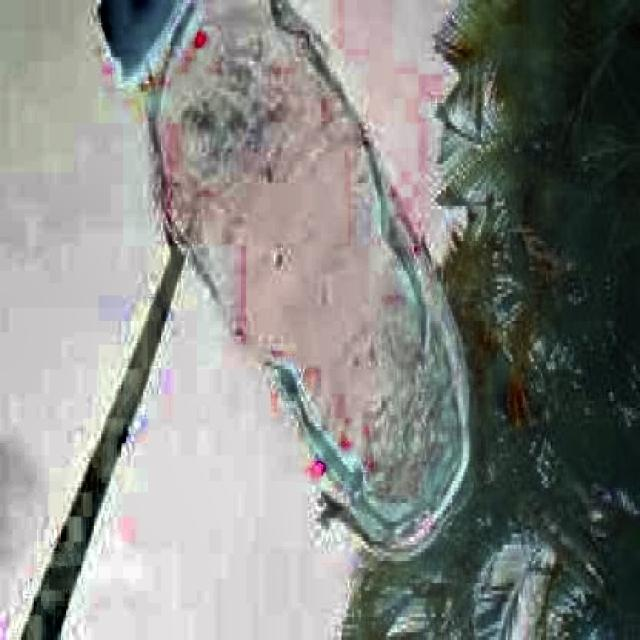pbottle: (80, 3, 488, 575)
